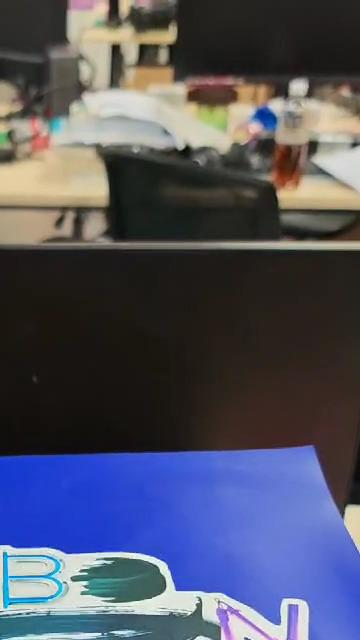B_R1: (0, 518, 332, 640)
